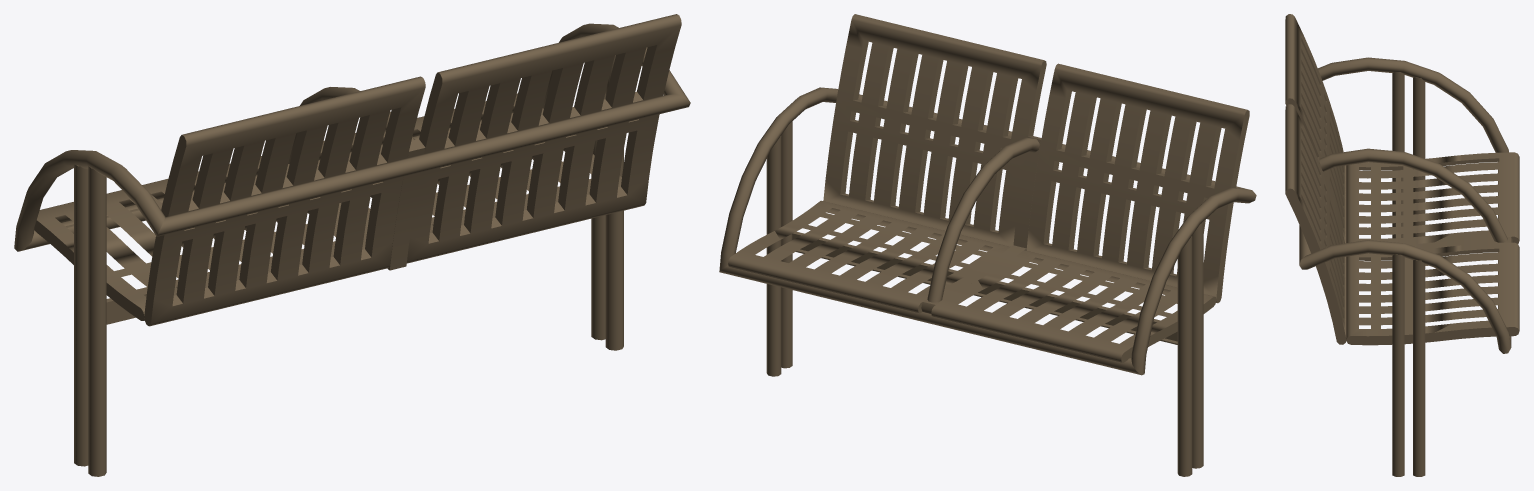
The picture shows the model from 3 angles, left to right: view 1: azimuth 30°, elevation 25°; view 2: azimuth 150°, elevation 25°; view 3: azimuth 270°, elevation 25°; orthographic projection. The views are drawn at different scales.
Visible parts, largest first — view 1: mesh15_mesh15-geometry, mesh39_mesh39-geometry, mesh8_mesh8-geometry, mesh12_mesh12-geometry, mesh9_mesh9-geometry, mesh3_mesh3-geometry, mesh44_mesh44-geometry, mesh1_mesh1-geometry; view 2: mesh15_mesh15-geometry, mesh12_mesh12-geometry, mesh9_mesh9-geometry, mesh8_mesh8-geometry, mesh5_mesh5-geometry, mesh3_mesh3-geometry, mesh1_mesh1-geometry, mesh45_mesh45-geometry, mesh44_mesh44-geometry, mesh42_mesh42-geometry; view 3: mesh12_mesh12-geometry, mesh15_mesh15-geometry, mesh9_mesh9-geometry, mesh8_mesh8-geometry, mesh1_mesh1-geometry, mesh3_mesh3-geometry, mesh45_mesh45-geometry, mesh44_mesh44-geometry.
Part boxes in pixels (x1,y1,x2,y2): mesh15_mesh15-geometry: [144, 14, 681, 326]; mesh39_mesh39-geometry: [157, 94, 690, 236]; mesh8_mesh8-geometry: [88, 55, 623, 476]; mesh12_mesh12-geometry: [34, 93, 621, 320]; mesh9_mesh9-geometry: [74, 93, 605, 466]; mesh3_mesh3-geometry: [14, 150, 165, 251]; mesh44_mesh44-geometry: [286, 139, 425, 270]; mesh1_mesh1-geometry: [542, 23, 690, 108]; mesh15_mesh15-geometry: [823, 14, 1249, 303]; mesh12_mesh12-geometry: [728, 200, 1216, 362]; mesh9_mesh9-geometry: [766, 136, 1192, 476]; mesh8_mesh8-geometry: [781, 121, 1203, 468]; mesh5_mesh5-geometry: [719, 265, 1141, 375]; mesh3_mesh3-geometry: [1131, 187, 1256, 374]; mesh1_mesh1-geometry: [719, 87, 838, 271]; mesh45_mesh45-geometry: [927, 137, 1039, 302]; mesh44_mesh44-geometry: [921, 136, 1041, 313]; mesh42_mesh42-geometry: [792, 231, 1177, 344]; mesh12_mesh12-geometry: [1346, 152, 1519, 345]; mesh15_mesh15-geometry: [1285, 14, 1346, 344]; mesh9_mesh9-geometry: [1413, 77, 1425, 476]; mesh8_mesh8-geometry: [1392, 72, 1404, 476]; mesh1_mesh1-geometry: [1299, 240, 1510, 353]; mesh3_mesh3-geometry: [1318, 57, 1508, 152]; mesh45_mesh45-geometry: [1319, 148, 1507, 242]; mesh44_mesh44-geometry: [1317, 157, 1513, 260].
Bounding box in the file's own units: 0.7523 × 0.5263 × 0.3963.
